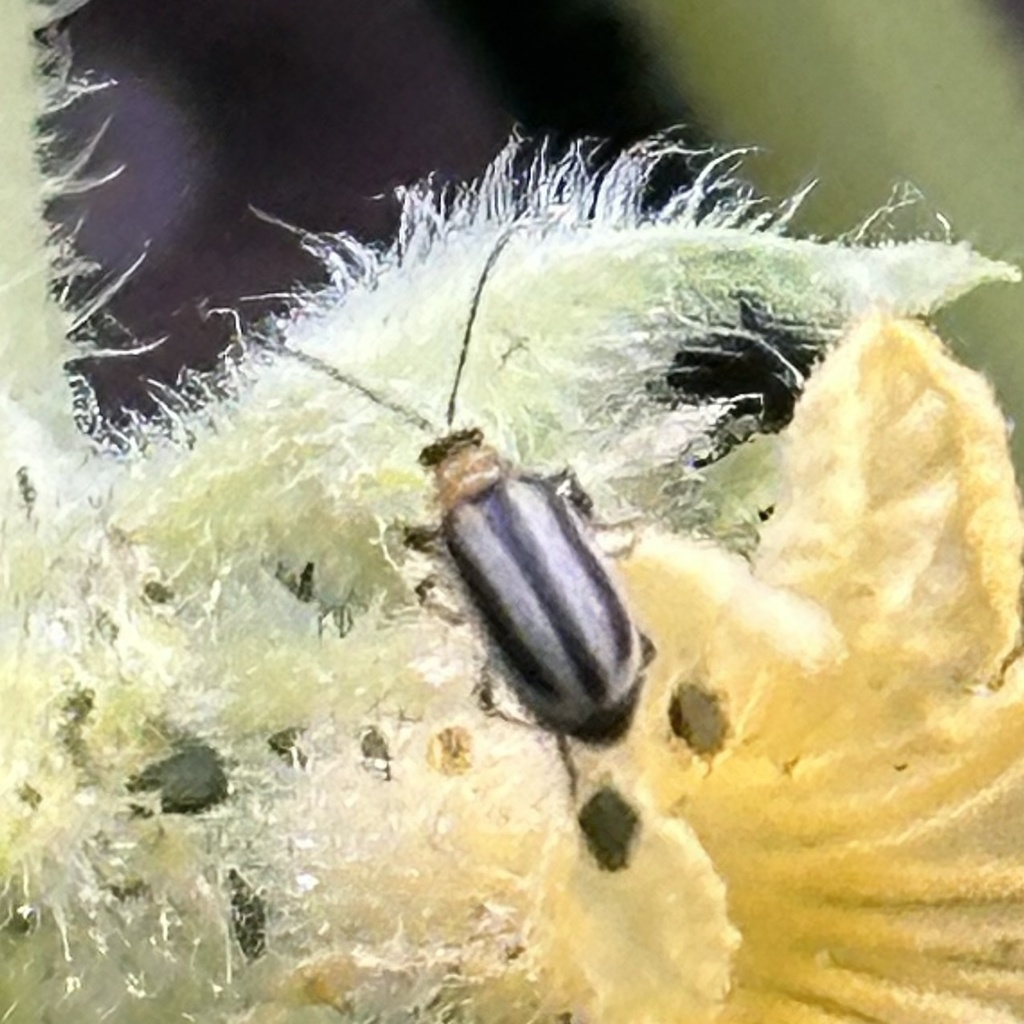potato_beetle: (163, 149, 873, 892)
